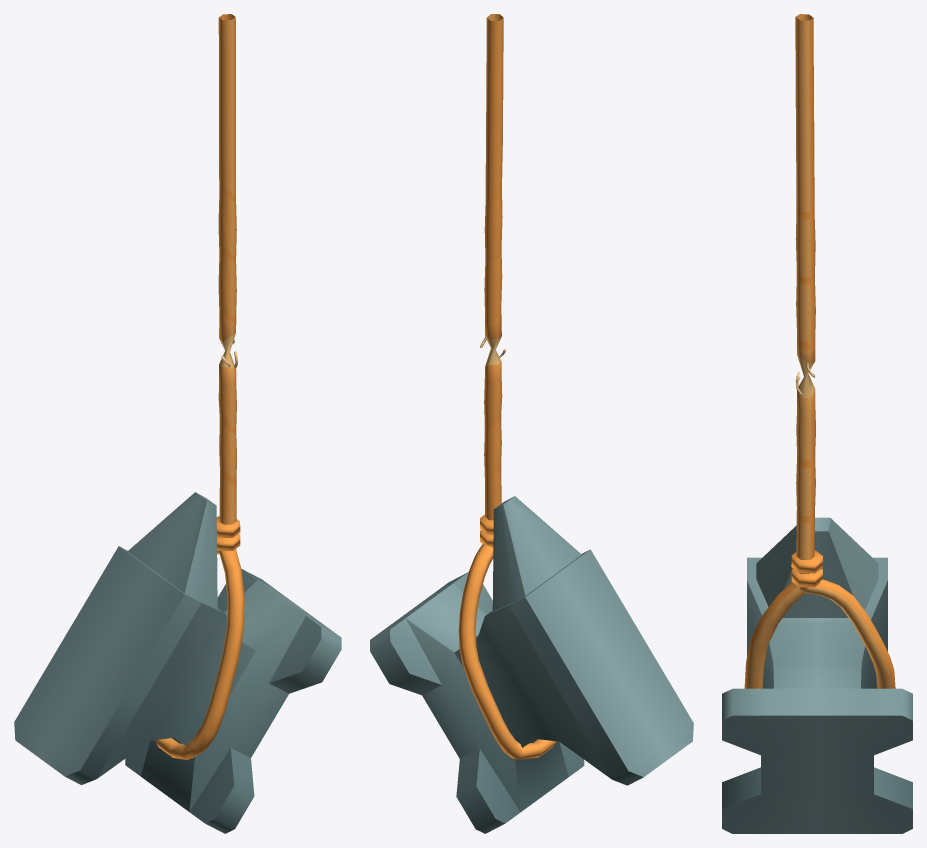
File: Anvil 1.fbx
The picture shows the model from 3 angles, left to right: view 1: azimuth 30°, elevation 25°; view 2: azimuth 150°, elevation 25°; view 3: azimuth 270°, elevation 25°; orthographic projection. The views are drawn at different scales.
Visible parts, largest first — view 1: Anvil, Rope; view 2: Anvil, Rope; view 3: Anvil, Rope.
Boxes of the visible parts, x1,y1,x2,y2 form: Anvil: (14,492,341,833); Rope: (154,14,244,759); Anvil: (370,496,693,833); Rope: (458,14,556,759); Anvil: (722,517,912,833); Rope: (744,14,895,688).
Bounding box in the file's own units: 424 × 1213 × 251.
